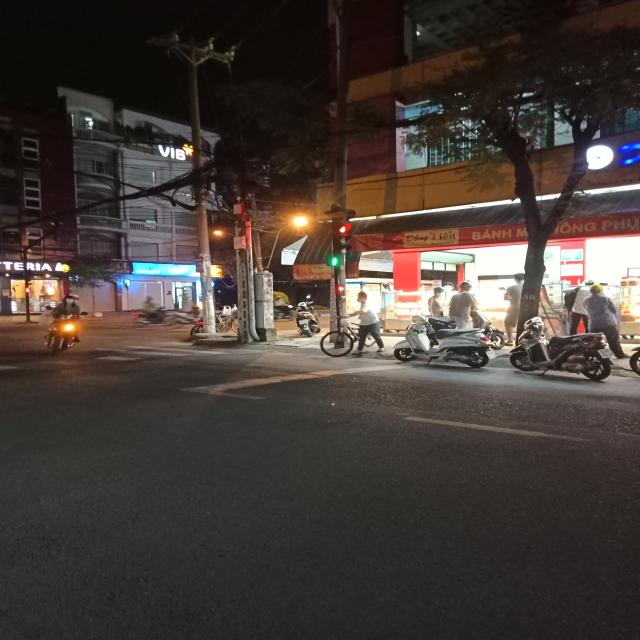Red: (332, 221, 352, 256), (333, 283, 350, 306)
